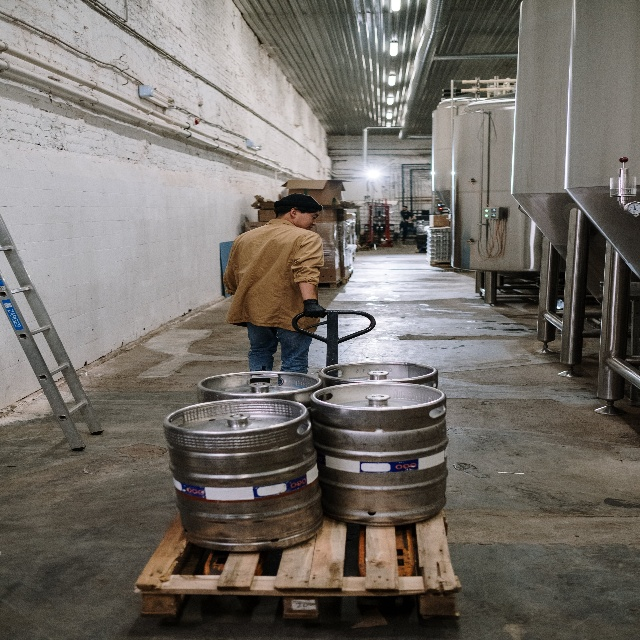Guantes: (302, 296, 327, 319)
